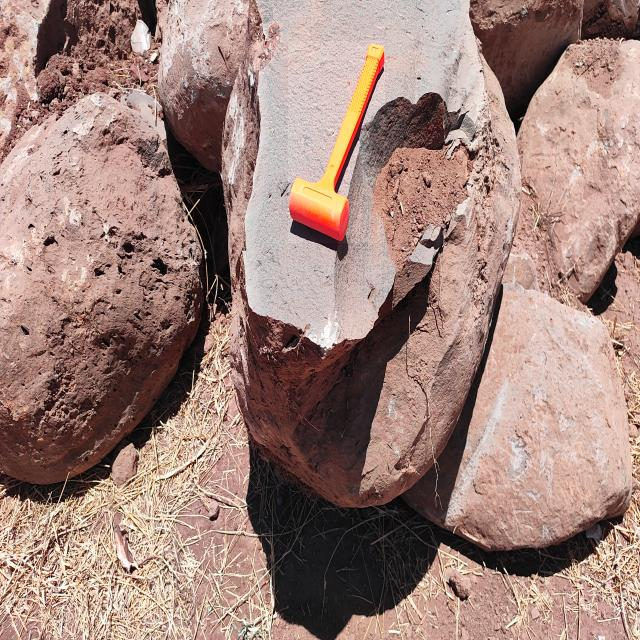Orange_hammer: (288, 41, 385, 243)
